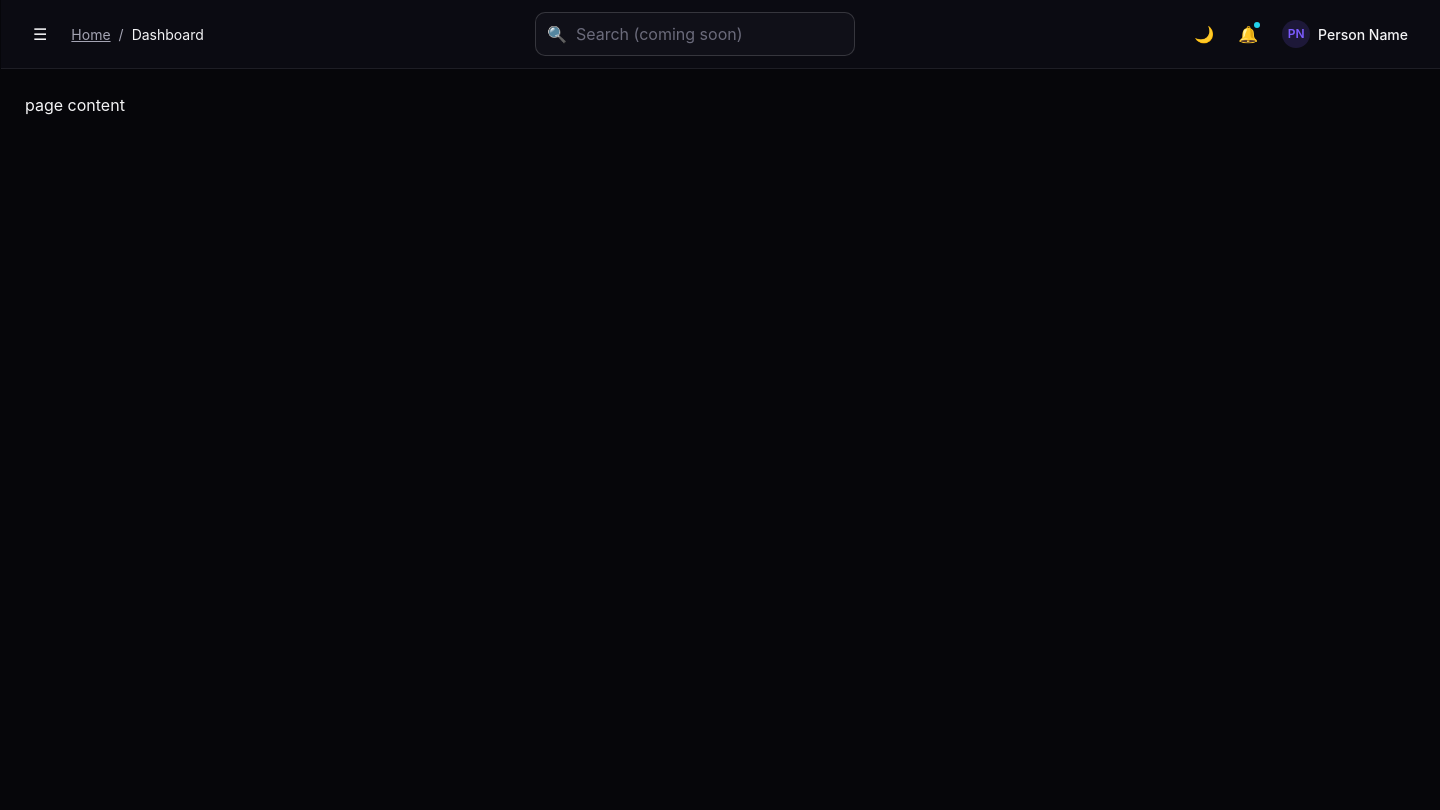
Test: AppShell › mobile/tablet (<=1024px) › starts with the drawer closed and opens/closes it via the hamburger button
What coordinates should you click on to do the following:
click the button named "Expand navigation"
I would click on:
 (40, 34)
Its box is [25, 14, 55, 54].
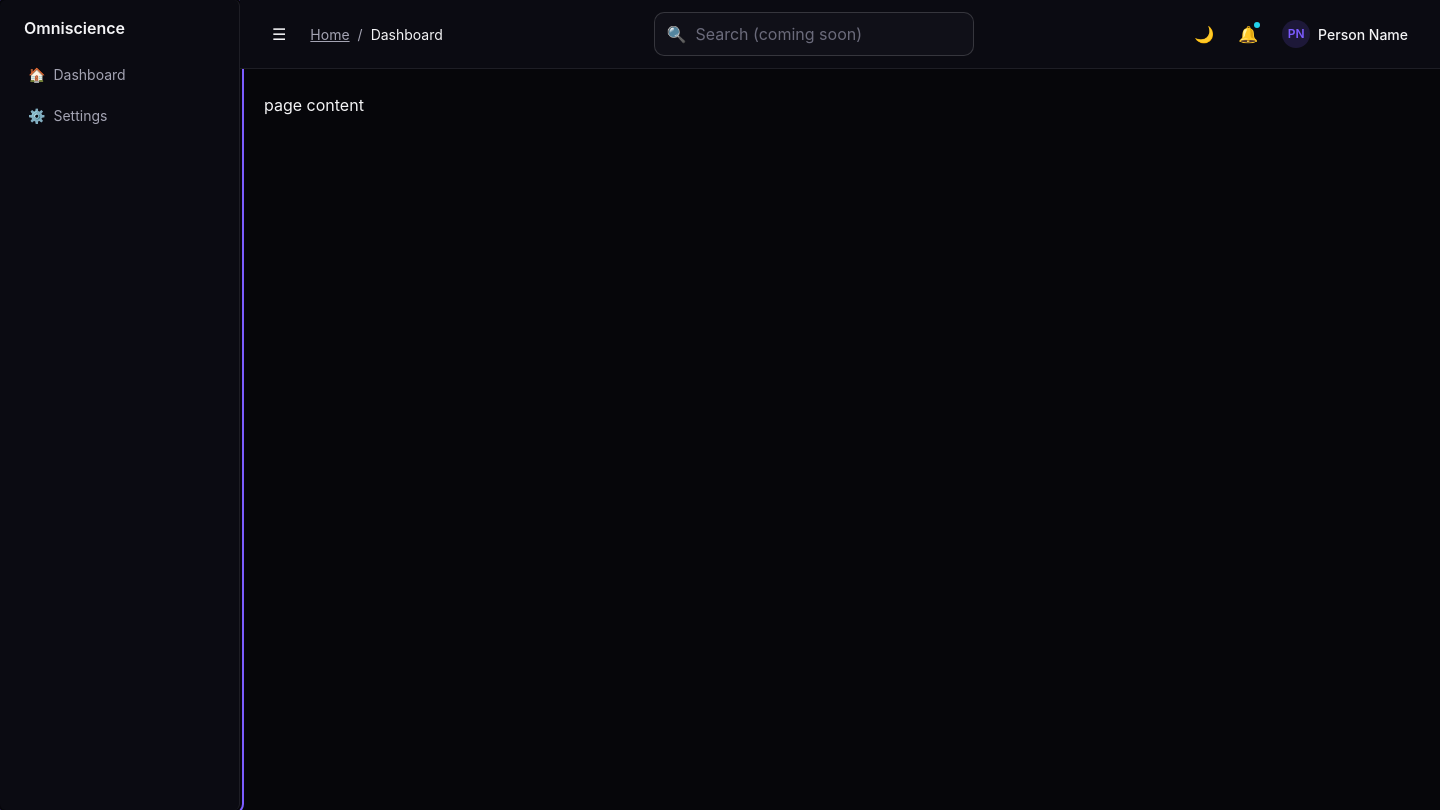
Expected: the button named "Collapse navigation" is expanded
What coordinates should you click on to do the following:
click the button named "Collapse navigation"
I would click on:
 (279, 34)
Its box is [264, 14, 294, 54].
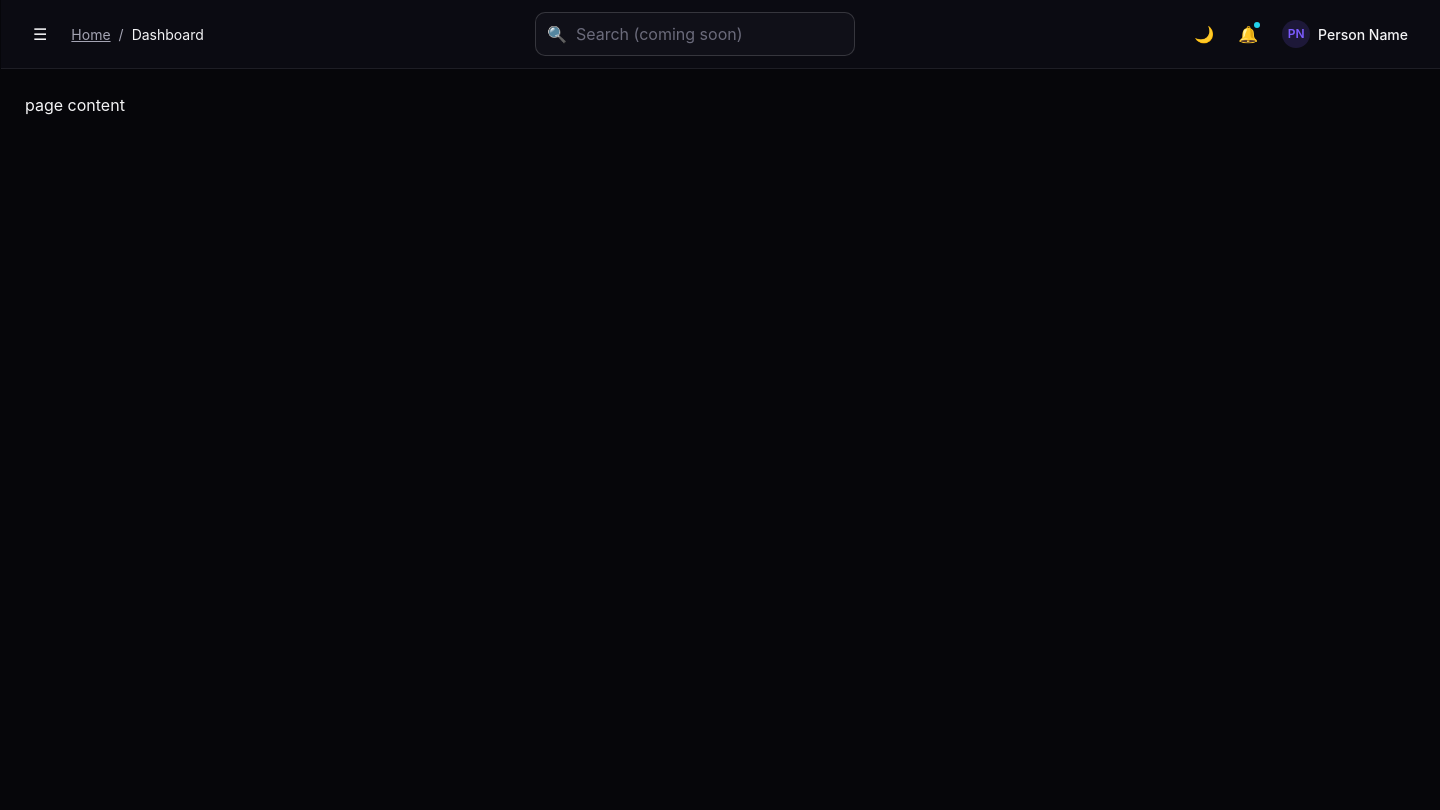
Expected: the button named "Expand navigation" is collapsed, [25, 14, 55, 54]
